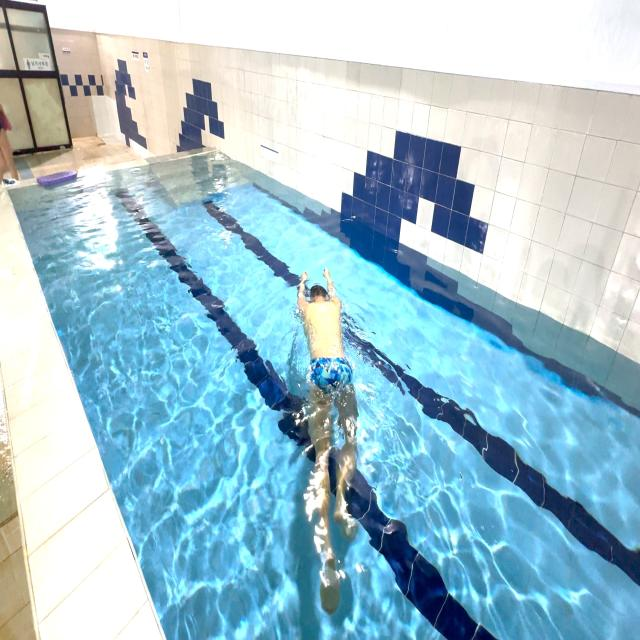Swimming: (282, 255, 369, 622)
